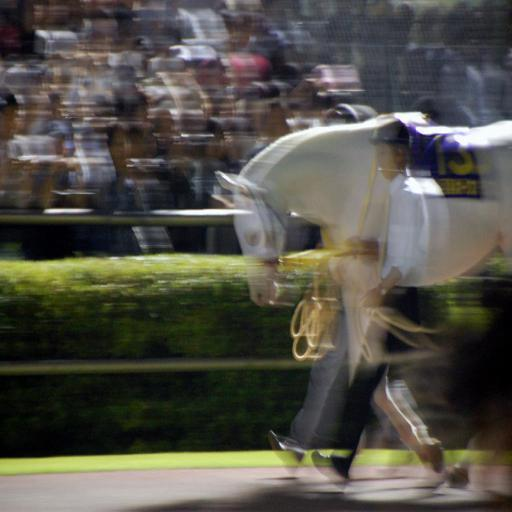horse: (211, 116, 512, 476)
